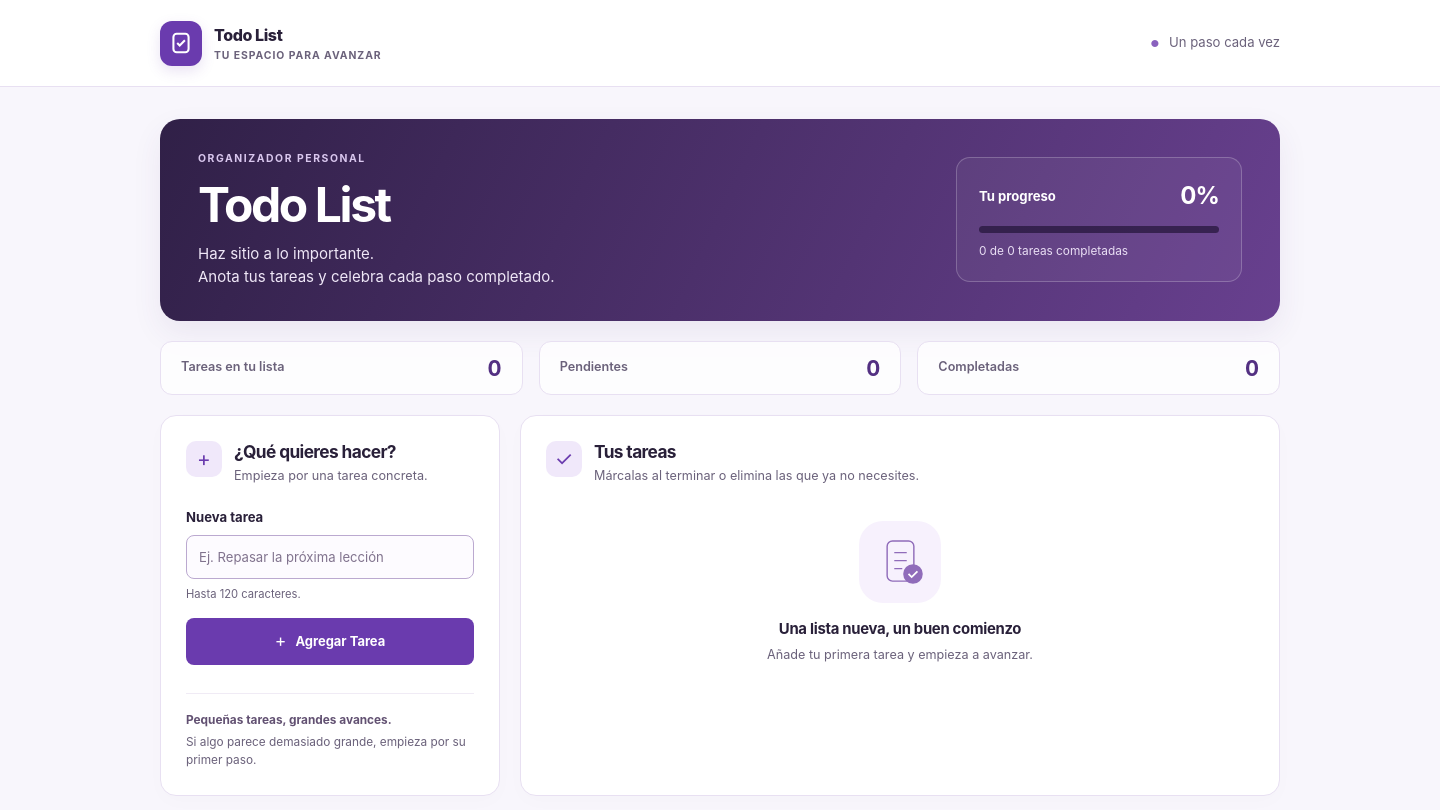
Test: TodoApp · integración entre formulario, estado y lista › agregar una tarea la muestra y limpia el campo
Type "Nueva tarea" into the field labelled "Nueva tarea". click: (330, 557)
box: [186,535,474,579]
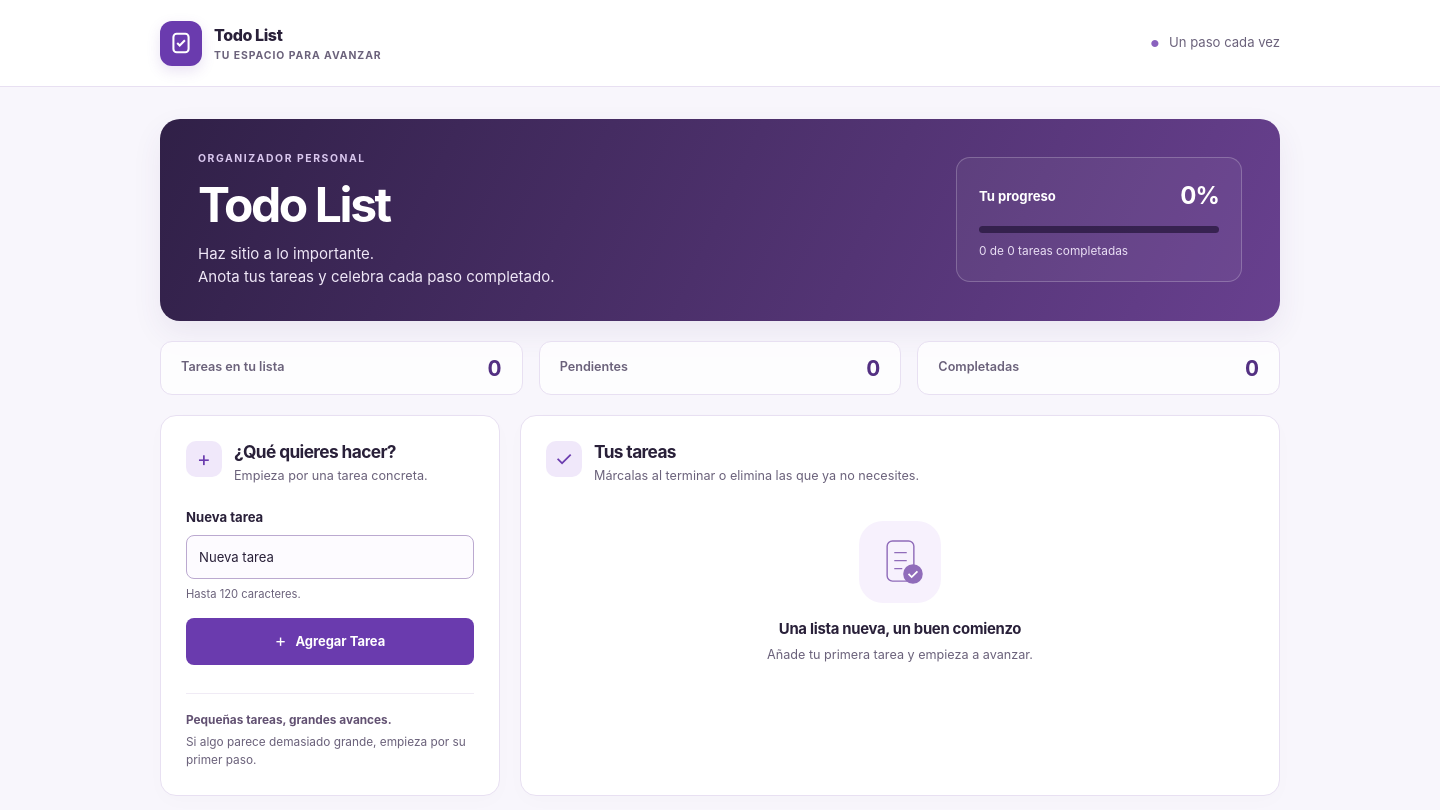
Click the button "+ Agregar Tarea". click: (330, 641)
box: [186,618,474,665]
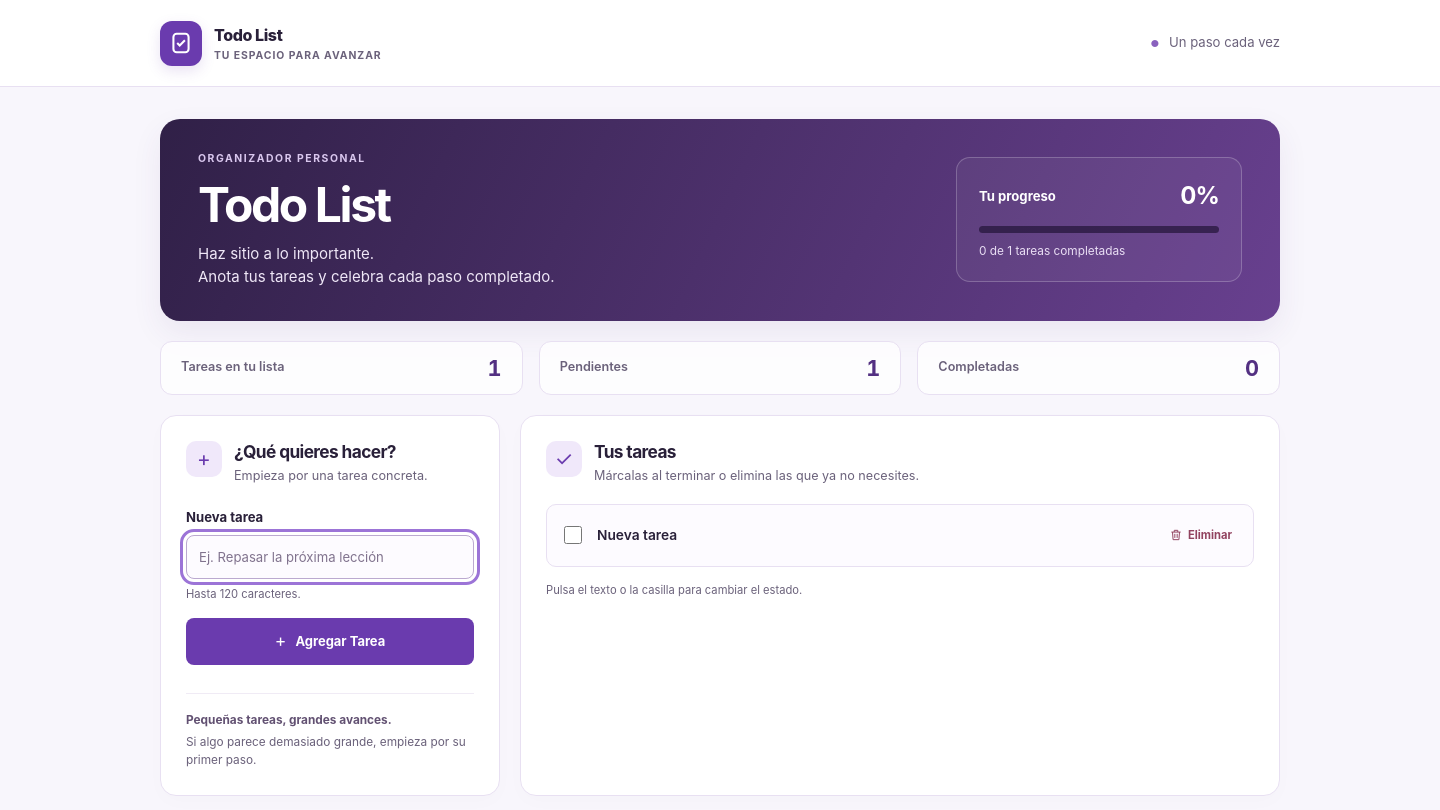
Check: the text "Nueva tarea" is shown, box [597,525,677,546]
Check: the field labelled "Nueva tarea" is empty, box [186,535,474,579]
